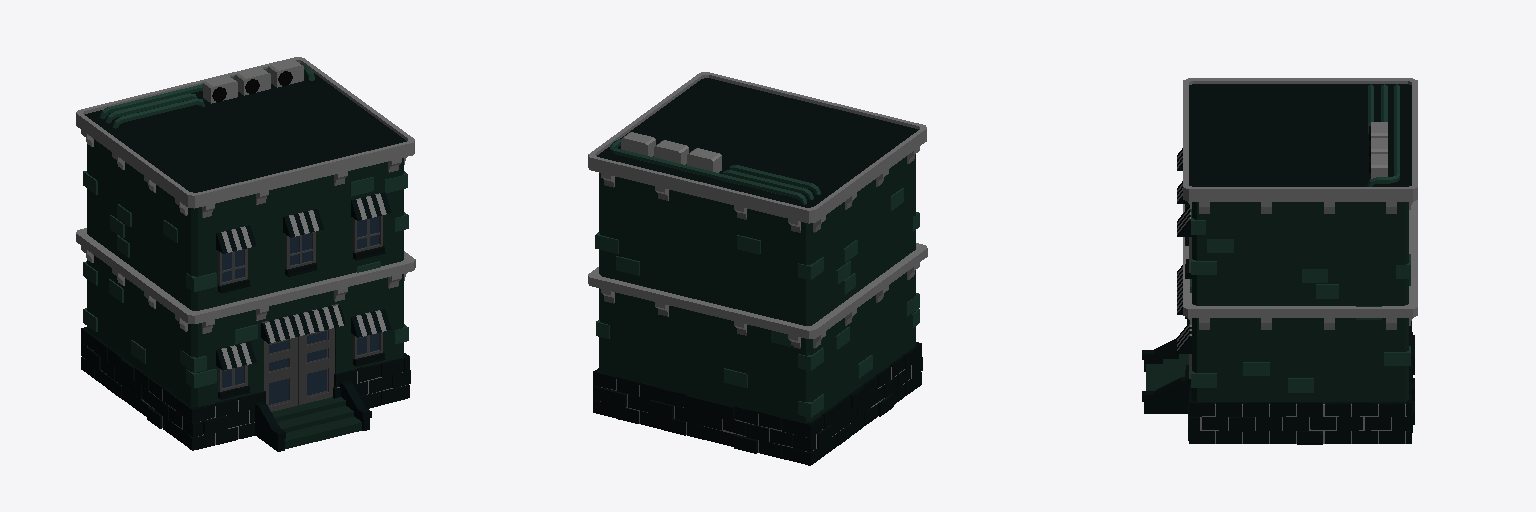
The model's file is 2Story_Double_Mat.obj.
3 renders of one model, left to right at view 1: azimuth 30°, elevation 25°; view 2: azimuth 150°, elevation 25°; view 3: azimuth 270°, elevation 25°, orthographic.
Visible parts, largest first — view 1: 2Story_Double_Mat_Cube.036; view 2: 2Story_Double_Mat_Cube.036; view 3: 2Story_Double_Mat_Cube.036.
Boxes of the visible parts, x1=… form: 2Story_Double_Mat_Cube.036: x1=76, y1=57, x2=415, y2=451; 2Story_Double_Mat_Cube.036: x1=588, y1=72, x2=927, y2=465; 2Story_Double_Mat_Cube.036: x1=1142, y1=78, x2=1417, y2=444.
Size of the model in its own units: 2.42 by 2.75 by 2.53.